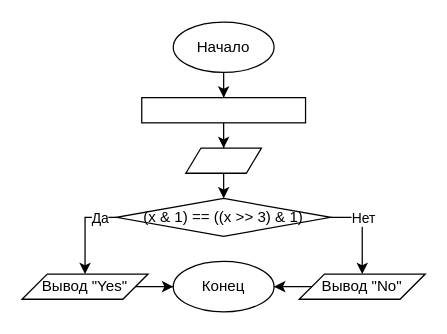
Some shapes in this 447 by 334 pixel diagram are drawn without their labels. The shapes that lost their labels are listed below. From the top down, each one's centre as x and y in pixels, then its label:
At point (223, 109): "Натуральное число x".
At point (223, 160): "Ввод x".
